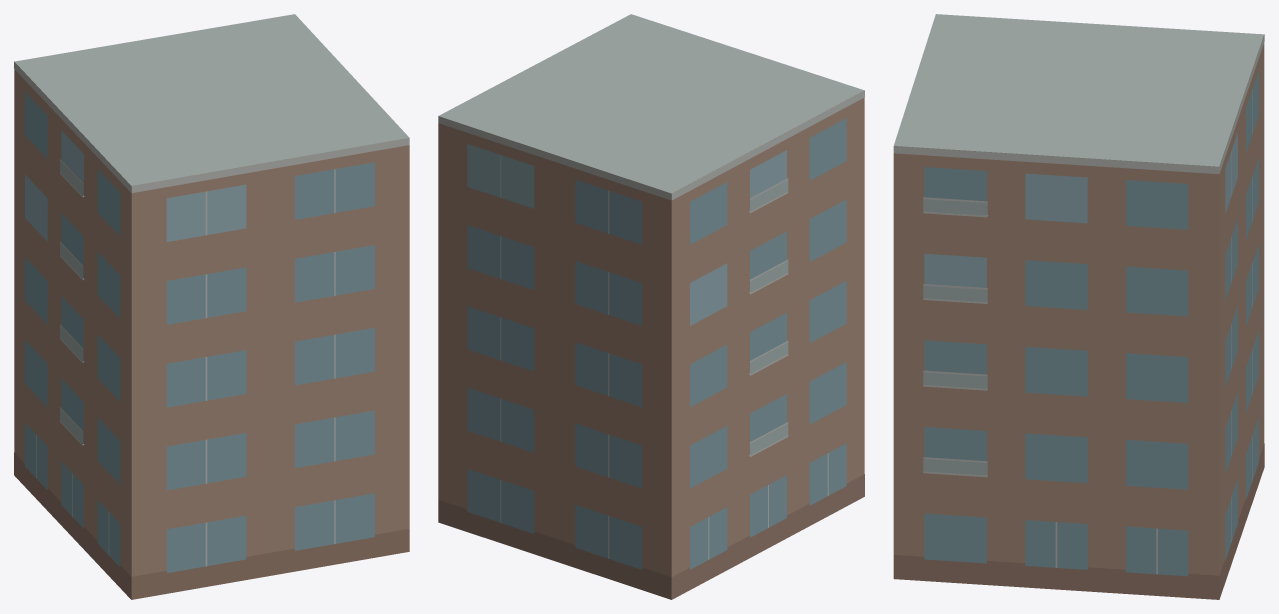
The model's file is survey-upis-32965979.glb.
3 views of the same model, side by side, from view 1: azimuth 30°, elevation 25°; view 2: azimuth 150°, elevation 25°; view 3: azimuth 270°, elevation 25° (orthographic). The views are drawn at different scales.
Visible parts, largest first — view 1: survey-upis-32965979.tmp; view 2: survey-upis-32965979.tmp; view 3: survey-upis-32965979.tmp.
Boxes of the visible parts, box(x1,y1,x2,y2) form: survey-upis-32965979.tmp: box(14, 14, 409, 599); survey-upis-32965979.tmp: box(438, 14, 864, 599); survey-upis-32965979.tmp: box(893, 14, 1264, 599).
Bounding box in the file's own units: 10.67 × 14.1 × 10.95.
